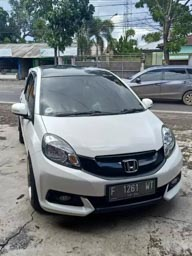plat: (109, 177, 155, 194)
